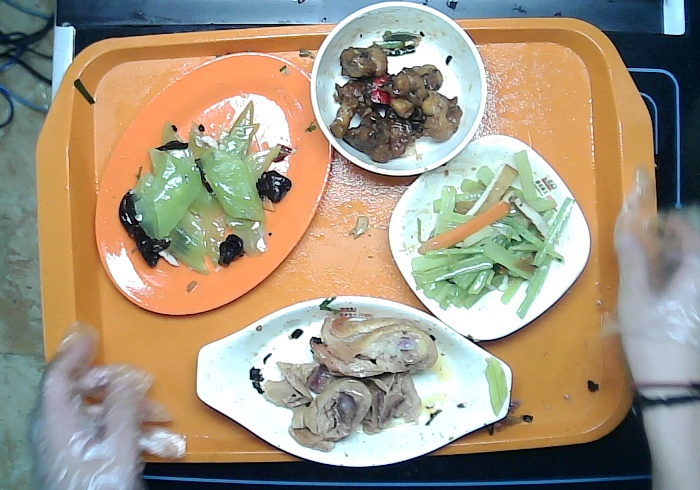NLDX-Bai_Se_Xiao_Fang_Die: (387, 134, 590, 341)
NLDX-Fan_Wan: (309, 1, 488, 176)
NLDX-Ju_Se_Pan: (95, 52, 336, 316)
NLDX-Yu_Pan: (195, 295, 513, 466)
